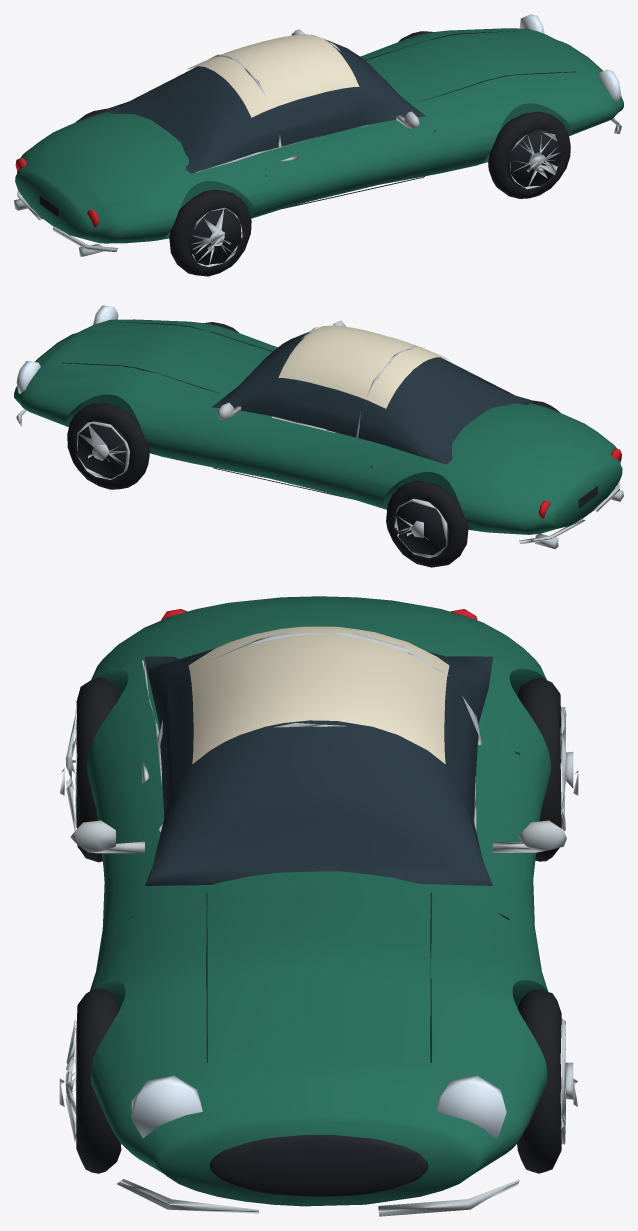
Rendered from riv1.glb.
3 views of the same model, one above another, from view 1: azimuth 30°, elevation 25°; view 2: azimuth 150°, elevation 25°; view 3: azimuth 270°, elevation 25° (orthographic). The views are drawn at different scales.
Visible parts, largest first — view 1: 轎跑_1; view 2: 轎跑_1; view 3: 轎跑_1.
Part boxes in pixels (x1=…): 轎跑_1: x1=14, y1=14, x2=623, y2=276; 轎跑_1: x1=14, y1=305, x2=623, y2=567; 轎跑_1: x1=59, y1=596, x2=578, y2=1216.
Bounding box in the file's own units: 5.04 × 1.38 × 2.08.
